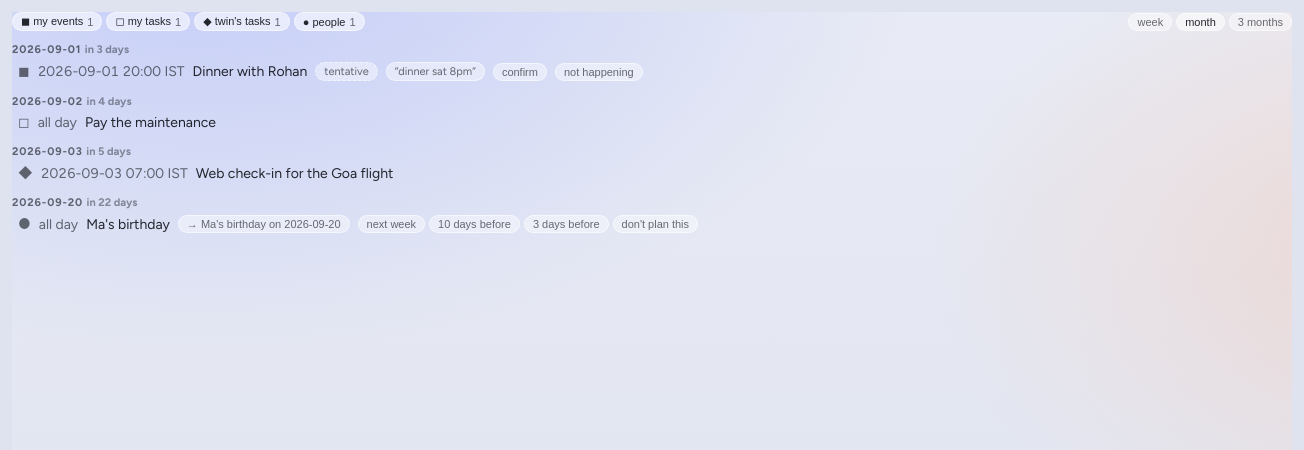
Calendar — layers separable (CAL-05) › one layer alone shows only its rows; the counts are the worker's
expect the text "Dinner with Rohan" is shown: met, box [192,63,307,80]
Click the button with aria-label "◻ my tasks layer": x=148, y=22 [106,12,190,31]
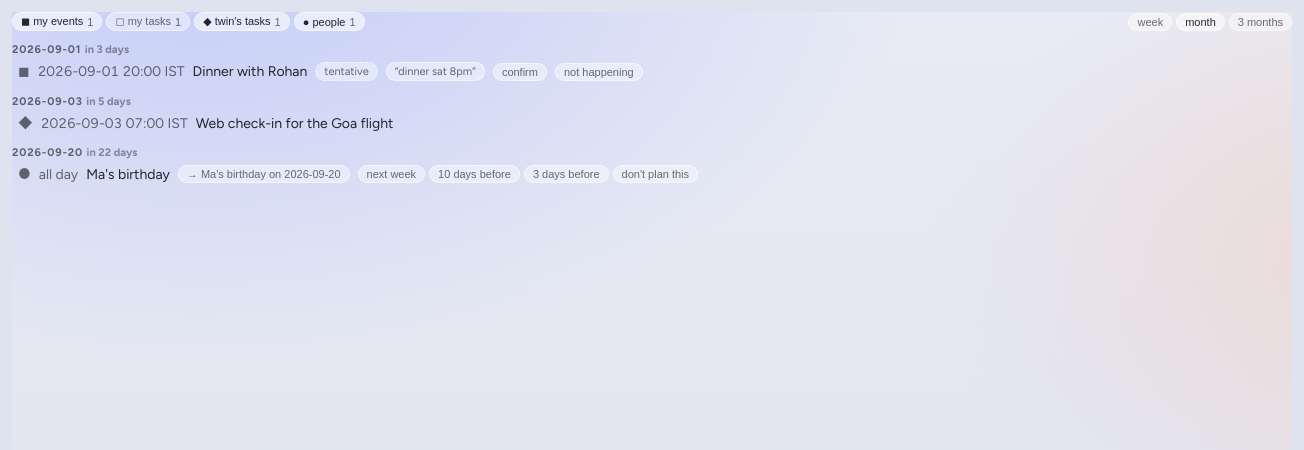
Click the button with aria-label "◆ twin's tasks layer": x=242, y=22 [194,12,290,31]
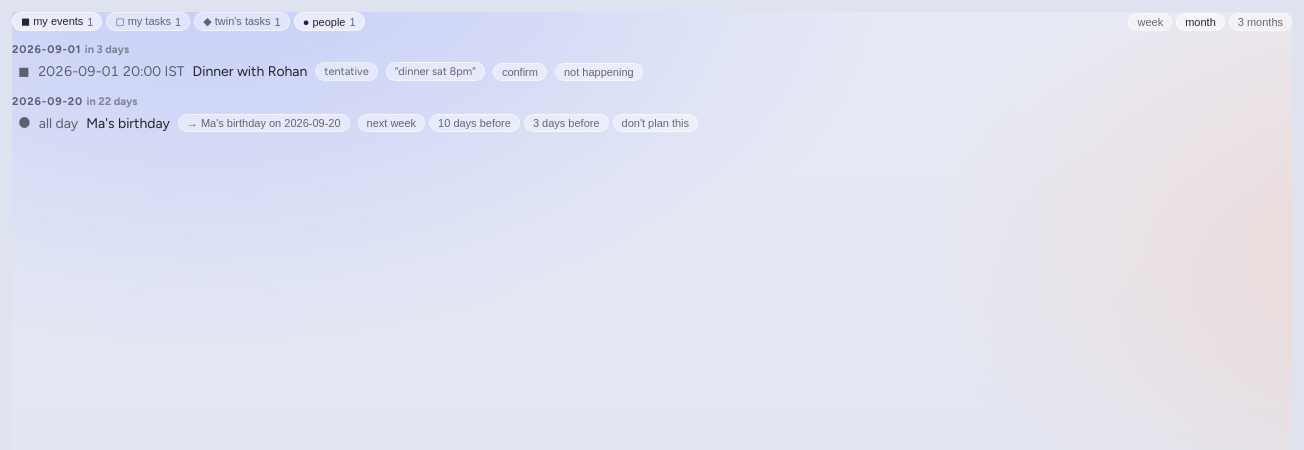
Click the button with aria-label "● people layer": x=329, y=22 [294,12,365,31]
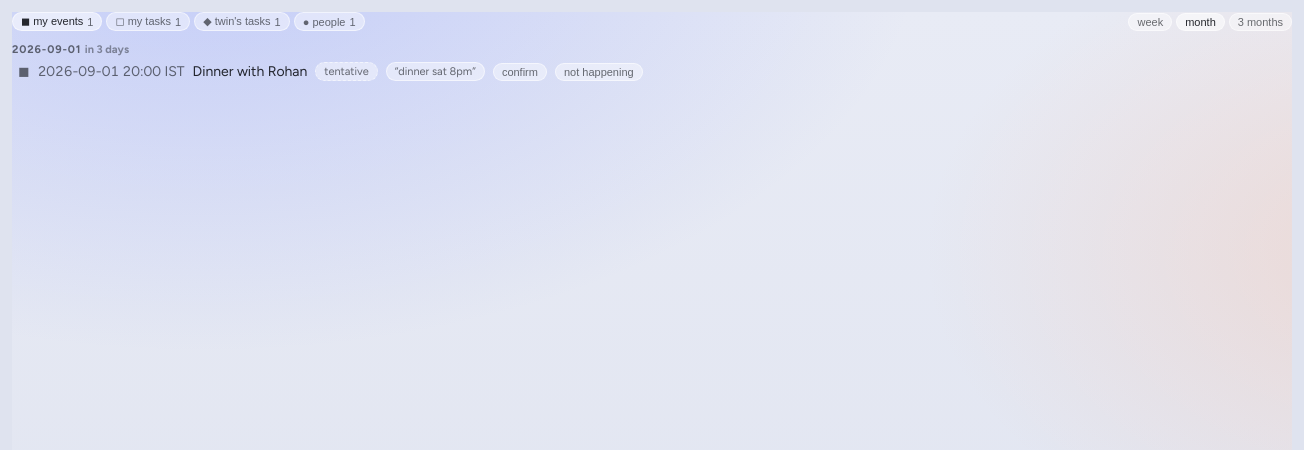
expect the text "Dinner with Rohan" is shown: met, box [192,63,307,80]
expect the text "Ma's birthday" is gone: met
